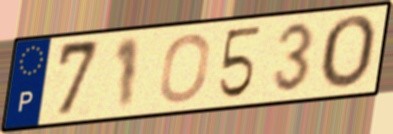1: (110, 34, 140, 113)
3: (270, 20, 317, 96)
5: (216, 23, 265, 101)
7: (55, 38, 102, 121)
O: (318, 13, 381, 92), (156, 32, 213, 105)
